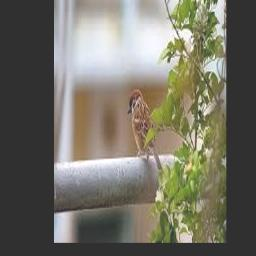Sparrow: (128, 89, 162, 170)
